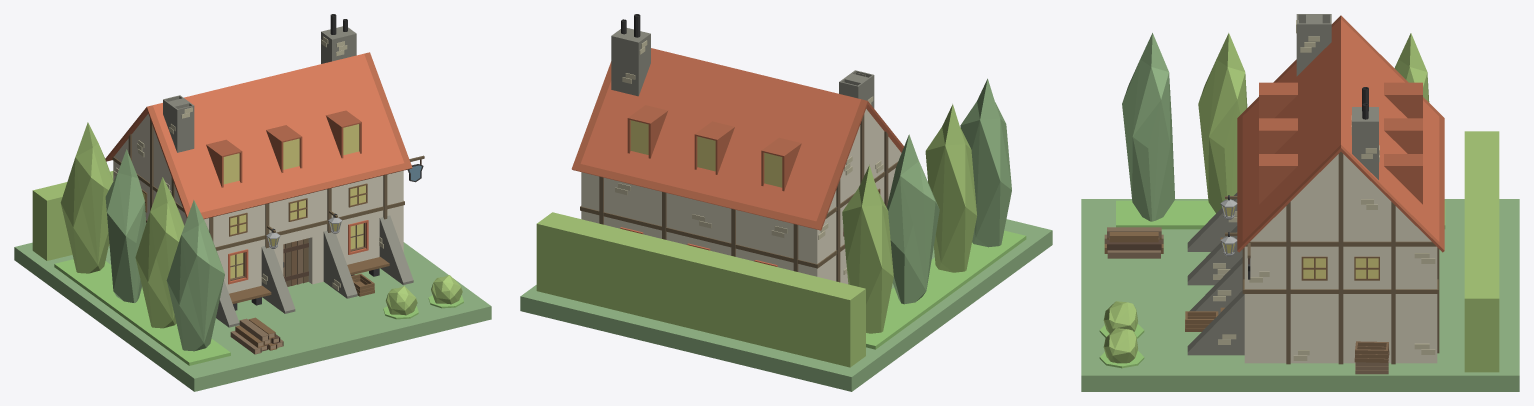
The model's file is House_9.fbx.
3 views of the same model, side by side, from view 1: azimuth 30°, elevation 25°; view 2: azimuth 150°, elevation 25°; view 3: azimuth 270°, elevation 25° (orthographic). The views are drawn at different scales.
Visible parts, largest first — view 1: House_9; view 2: House_9; view 3: House_9.
Part boxes in pixels (bbox=[...]): House_9: bbox=[14, 14, 491, 391]; House_9: bbox=[520, 14, 1052, 391]; House_9: bbox=[1081, 14, 1519, 391].
Size of the model in its own units: 203 by 149 by 212.
Materials: 1 (1 with a texture image).
